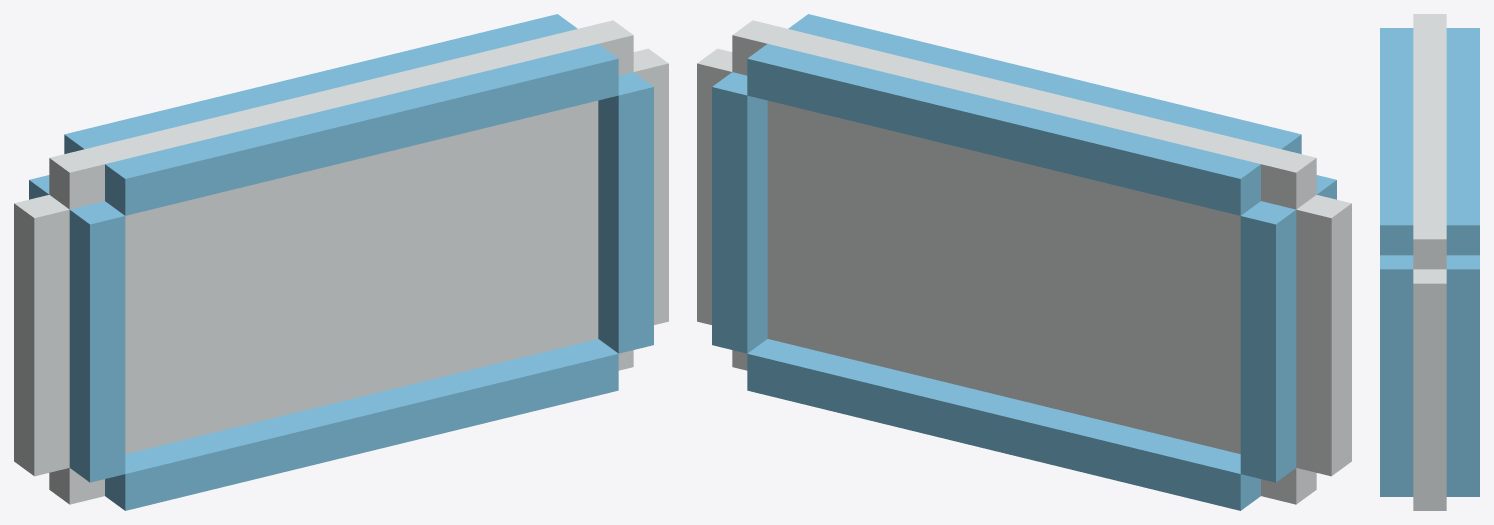
File: DialogCloud.fbx
3 views of the same model, side by side, from view 1: azimuth 30°, elevation 25°; view 2: azimuth 150°, elevation 25°; view 3: azimuth 270°, elevation 25° (orthographic). The views are drawn at different scales.
Visible parts, largest first — view 1: cube1, cube3, cube2, cube4, cube_1, cube5, cube3_1, cube; view 2: cube1, cube3_1, cube2_1, cube4_1, cube_1, cube5_1, cube3, cube; view 3: cube1, cube3_1, cube3, cube5_1, cube5, cube, cube2_1, cube2.
Part boxes in pixels (x1,y1,x2,y2): cube1: [49, 20, 633, 504]; cube3: [105, 44, 618, 215]; cube2: [105, 339, 618, 510]; cube4: [69, 201, 125, 482]; cube_1: [14, 195, 69, 476]; cube5: [598, 72, 653, 353]; cube3_1: [64, 14, 577, 153]; cube: [633, 48, 668, 324]; cube1: [732, 20, 1316, 504]; cube3_1: [747, 44, 1260, 215]; cube2_1: [747, 339, 1260, 510]; cube4_1: [1240, 201, 1296, 482]; cube_1: [1296, 195, 1351, 476]; cube5_1: [712, 72, 767, 353]; cube3: [788, 14, 1301, 153]; cube: [697, 48, 732, 324]; cube1: [1413, 14, 1446, 510]; cube3_1: [1446, 28, 1479, 255]; cube3: [1380, 28, 1413, 255]; cube5_1: [1446, 255, 1479, 480]; cube5: [1380, 255, 1413, 480]; cube: [1413, 269, 1446, 494]; cube2_1: [1446, 480, 1479, 496]; cube2: [1380, 480, 1413, 496].
Bounding box in the file's own units: 225 × 112 × 37.5.
4 materials, 4 textured.
